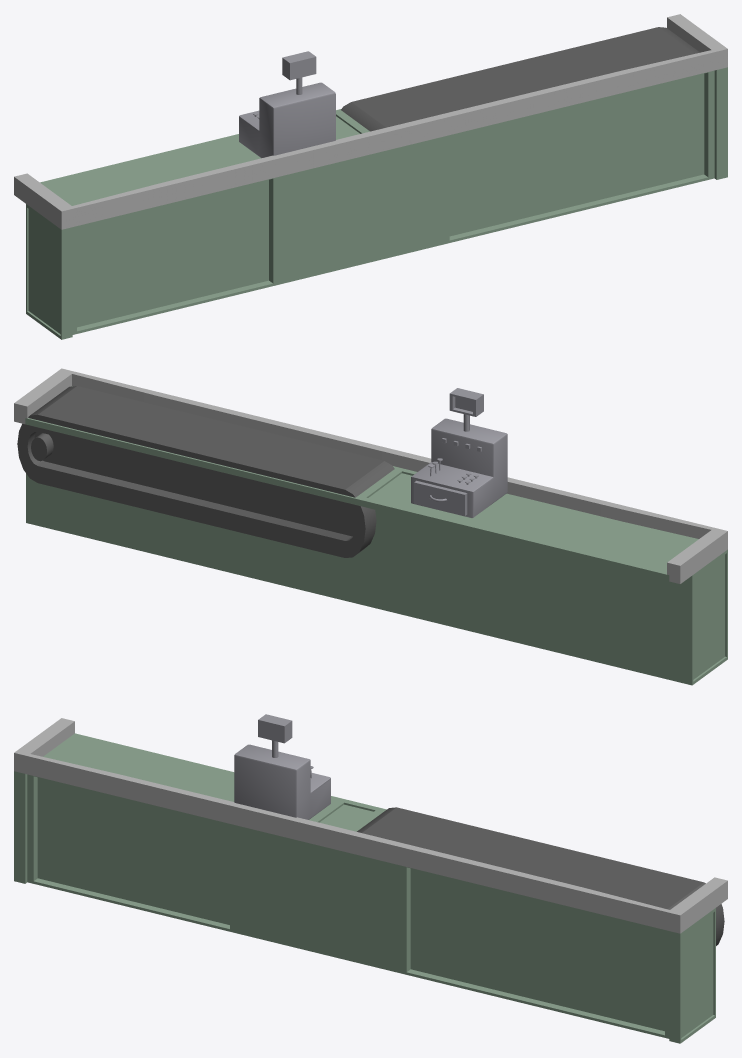
Rendered from cashier.glb.
3 renders of one model, top to bottom at view 1: azimuth 30°, elevation 25°; view 2: azimuth 150°, elevation 25°; view 3: azimuth 330°, elevation 25°, orthographic.
Visible parts, largest first — view 1: Box001, Object002, Object001, Cylinder007; view 2: Box001, Object001, Object002, Cylinder007; view 3: Box001, Object002, Object001, Cylinder007.
Boxes of the visible parts, box(x1,y1,x2,y2) form: Box001: box(26, 67, 727, 339); Object002: box(14, 14, 727, 229); Object001: box(341, 27, 699, 131); Cylinder007: box(239, 51, 335, 158); Box001: box(25, 386, 727, 685); Object001: box(17, 386, 394, 557); Object002: box(14, 368, 727, 583); Cylinder007: box(411, 388, 507, 517); Box001: box(14, 733, 715, 1043); Object002: box(14, 718, 727, 933); Object001: box(357, 807, 724, 945); Cylinder007: box(234, 714, 330, 819).
Bounding box in the file's own units: 0.5181 × 0.1584 × 0.0641.
